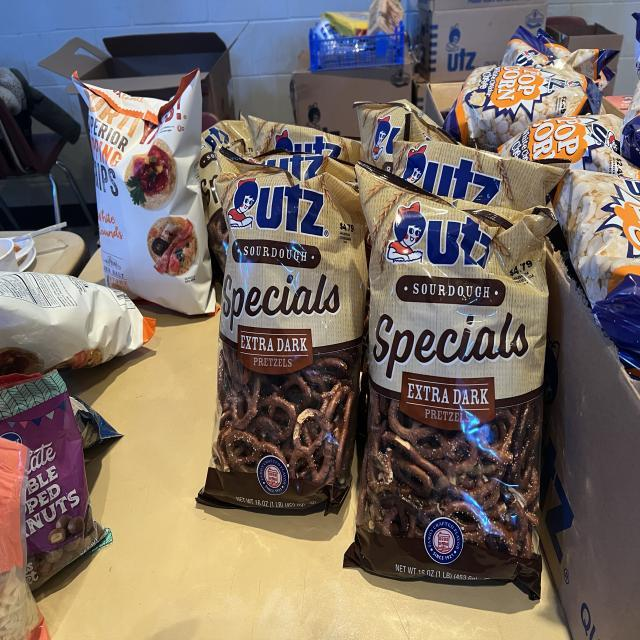Snack: (345, 165, 548, 598), (198, 160, 368, 512), (72, 70, 216, 315), (0, 272, 155, 375), (444, 65, 602, 150), (392, 140, 568, 212), (499, 113, 640, 180), (199, 118, 254, 270), (354, 100, 455, 172)
